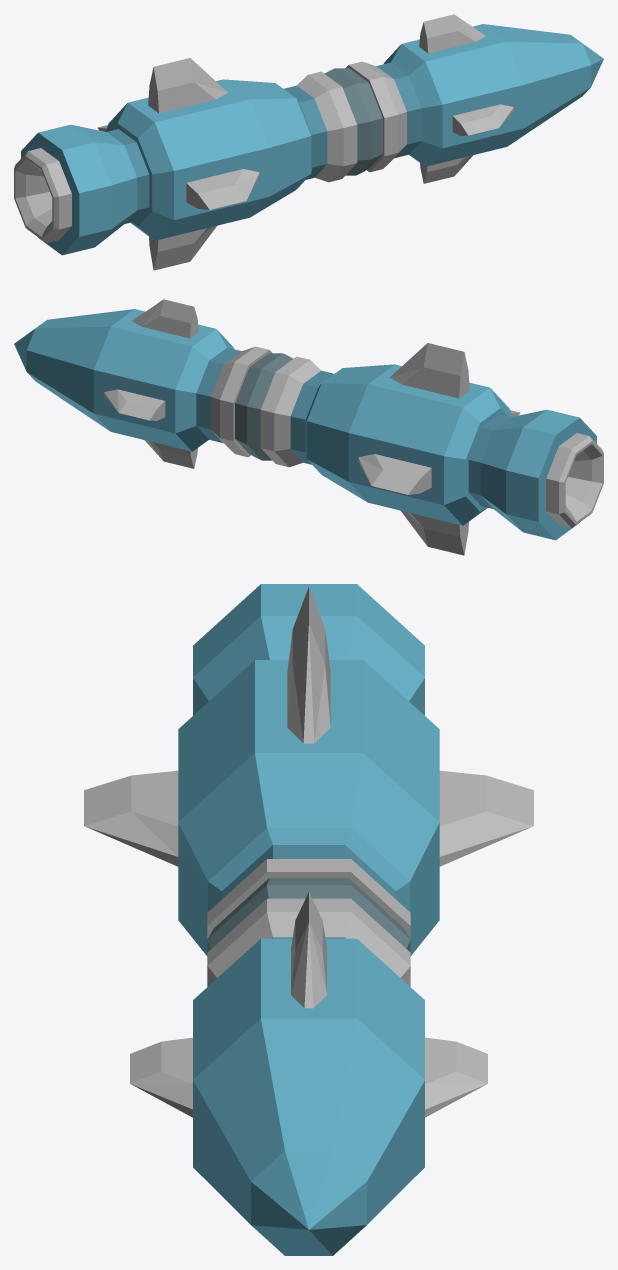
File: spacestation_weapon_torpedo.glb
3 renders of one model, top to bottom at view 1: azimuth 30°, elevation 25°; view 2: azimuth 150°, elevation 25°; view 3: azimuth 270°, elevation 25°, orthographic. The views are drawn at different scales.
Size of the model in its own units: 0.5238 by 0.1789 by 0.1789.
